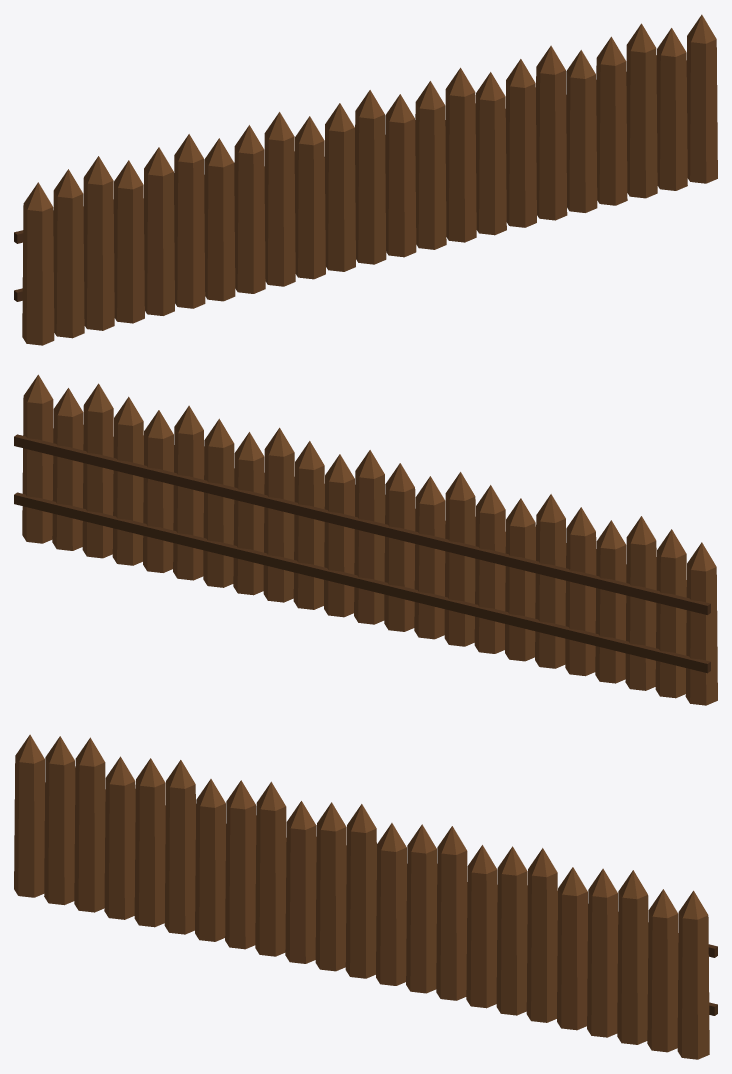
File: human_wall_broken.glb
3 views of the same model, one above another, from view 1: azimuth 30°, elevation 25°; view 2: azimuth 150°, elevation 25°; view 3: azimuth 330°, elevation 25° (orthographic).
Visible parts, largest first — view 1: human_wall_piece1, human_wall_piece3, human_wall_piece11, human_wall_piece5, human_wall_piece0, human_wall_piece4, human_wall_piece9, human_wall_piece6, human_wall_piece8, human_wall_piece2, human_wall_piece10, human_wall_piece7 (+2 smaller); view 2: human_wall_piece1, human_wall_piece6, human_wall_piece2, human_wall_piece11, human_wall_piece10, human_wall_piece12, human_wall_piece3, human_wall_piece7, human_wall_piece5, human_wall_piece0, human_wall_piece13, human_wall_piece4 (+2 smaller); view 3: human_wall_piece1, human_wall_piece3, human_wall_piece5, human_wall_piece11, human_wall_piece0, human_wall_piece4, human_wall_piece9, human_wall_piece6, human_wall_piece8, human_wall_piece10, human_wall_piece7, human_wall_piece2 (+2 smaller).
Boxes of the visible parts, left/top/right/bottom form: human_wall_piece1: left=562, top=14, right=717, bottom=205; human_wall_piece3: left=114, top=112, right=294, bottom=271; human_wall_piece11: left=14, top=147, right=171, bottom=258; human_wall_piece5: left=475, top=72, right=615, bottom=226; human_wall_piece0: left=256, top=150, right=385, bottom=292; human_wall_piece4: left=257, top=90, right=439, bottom=235; human_wall_piece9: left=14, top=240, right=193, bottom=345; human_wall_piece6: left=355, top=110, right=470, bottom=259; human_wall_piece8: left=422, top=67, right=526, bottom=227; human_wall_piece2: left=144, top=136, right=327, bottom=315; human_wall_piece10: left=506, top=23, right=643, bottom=141; human_wall_piece7: left=414, top=96, right=514, bottom=239; human_wall_piece1: left=14, top=374, right=185, bottom=572; human_wall_piece6: left=266, top=475, right=401, bottom=624; human_wall_piece2: left=398, top=498, right=595, bottom=676; human_wall_piece11: left=571, top=507, right=716, bottom=620; human_wall_piece10: left=92, top=383, right=230, bottom=539; human_wall_piece12: left=575, top=578, right=717, bottom=705; human_wall_piece3: left=448, top=472, right=628, bottom=620; human_wall_piece7: left=205, top=456, right=341, bottom=596; human_wall_piece5: left=157, top=432, right=264, bottom=581; human_wall_piece0: left=379, top=512, right=475, bottom=646; human_wall_piece13: left=410, top=531, right=569, bottom=674; human_wall_piece4: left=306, top=450, right=478, bottom=546; human_wall_piece1: left=541, top=874, right=717, bottom=1059; human_wall_piece3: left=97, top=760, right=284, bottom=895; human_wall_piece5: left=470, top=845, right=591, bottom=1035; human_wall_piece11: left=15, top=734, right=160, bottom=845; human_wall_piece0: left=232, top=854, right=365, bottom=978; human_wall_piece4: left=235, top=801, right=417, bottom=893; human_wall_piece9: left=14, top=792, right=169, bottom=899; human_wall_piece6: left=344, top=845, right=447, bottom=999; human_wall_piece8: left=408, top=824, right=502, bottom=1013; human_wall_piece10: left=501, top=846, right=635, bottom=941; human_wall_piece7: left=395, top=845, right=497, bottom=1008; human_wall_piece2: left=134, top=846, right=316, bottom=932.
Bounding box in the file's own units: 6.25 × 1.45 × 0.2706.
